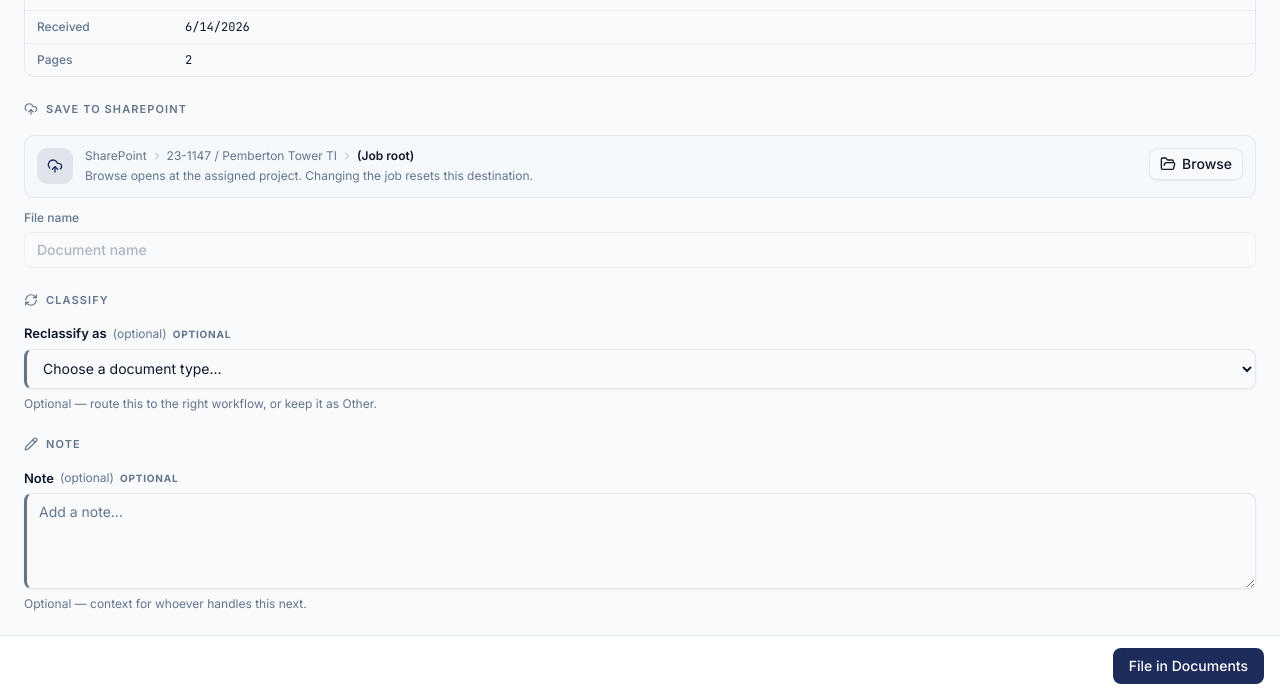
createOtherDocumentSpec › keeps a failed filing unresolved and surfaces the literal server error
(page scrolled)
Click the button "File in Documents" at (1188, 666), box [1113,648,1264,684]
(page scrolled)
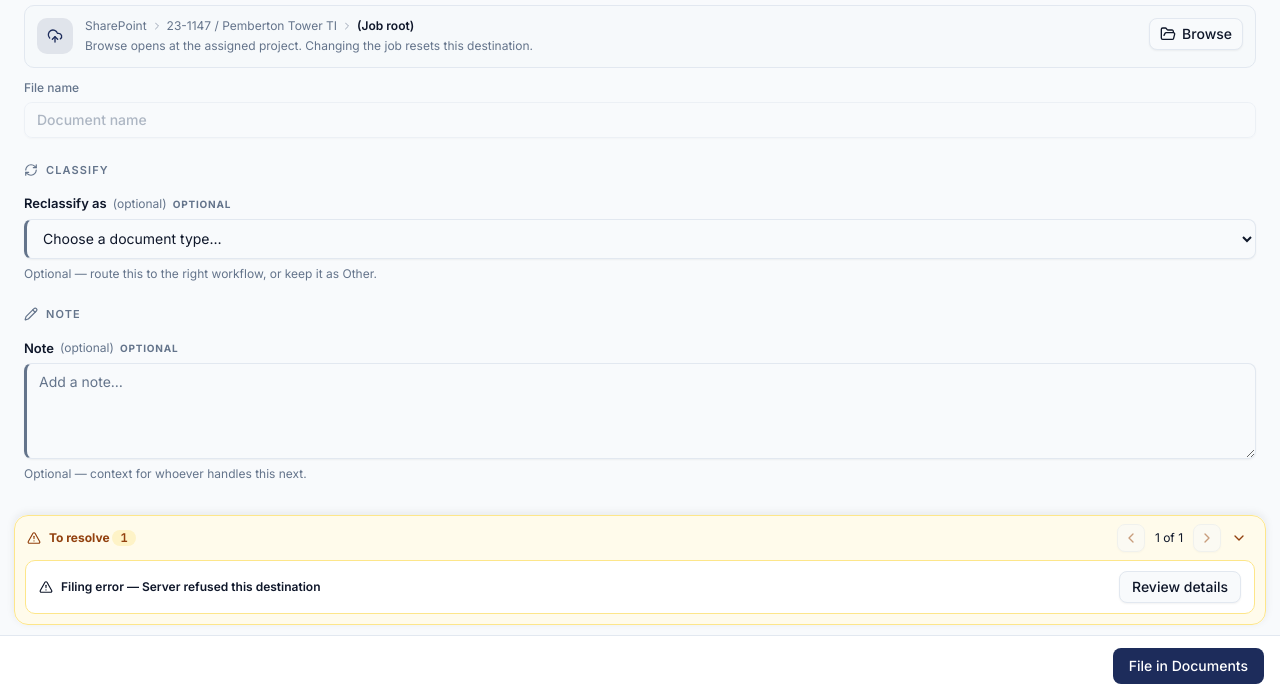
Check: the text "Filing error — Server refused this destination" is shown, box [61,579,320,595]
